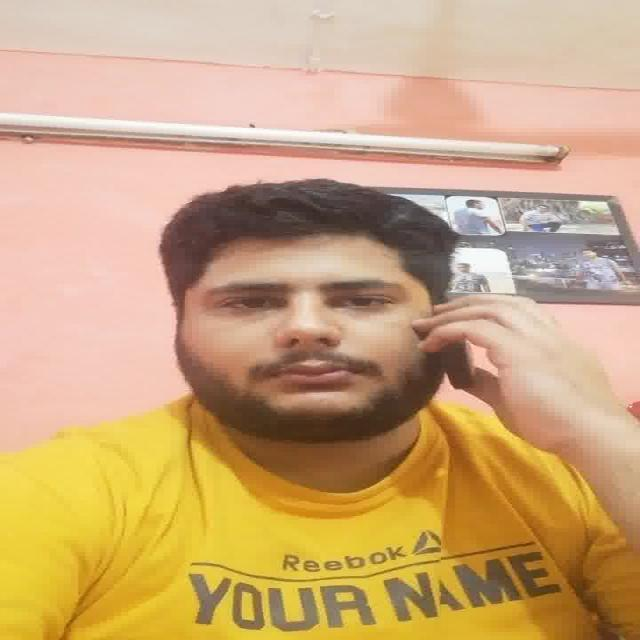phone: (441, 325, 482, 396)
